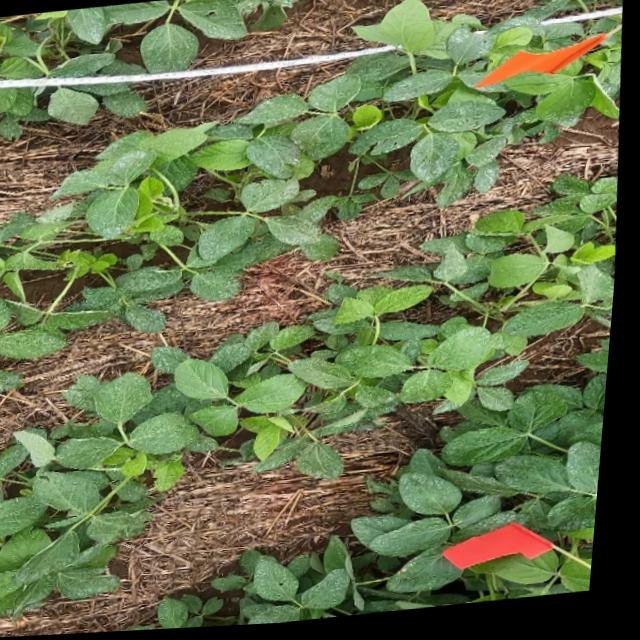soy_plant: (0, 183, 621, 614), (0, 3, 542, 358), (138, 454, 601, 633), (242, 0, 623, 211), (450, 345, 616, 546), (0, 0, 303, 78), (0, 84, 145, 136)
